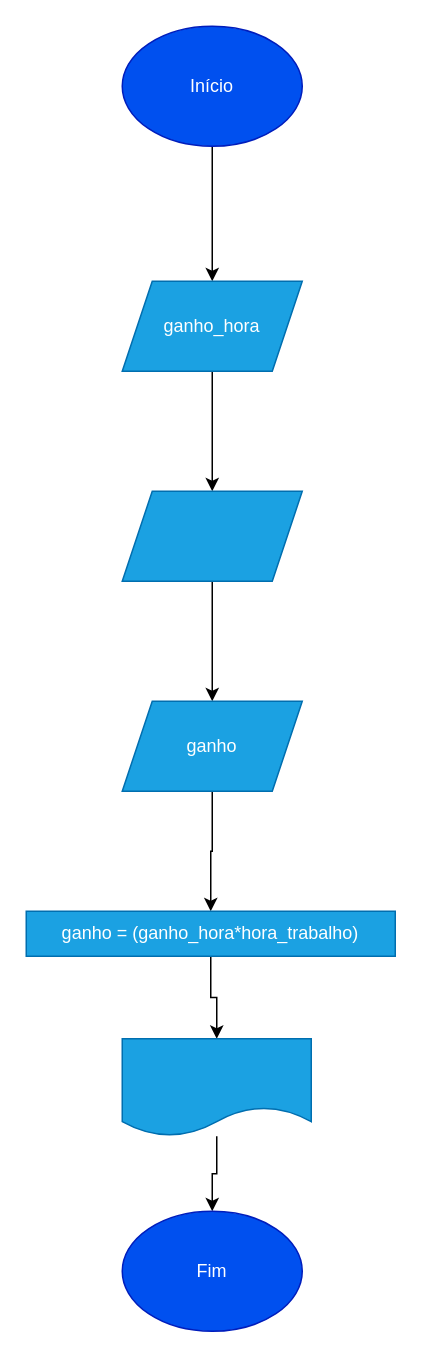
This 422x1358 diagram has some shape labels left out. The box of each missing label's shape, as (x1, y1, x2, y2) in pixels:
Funcionário irá ganhar: (121, 1037, 311, 1136)
hora_trabalho: (121, 490, 302, 581)
